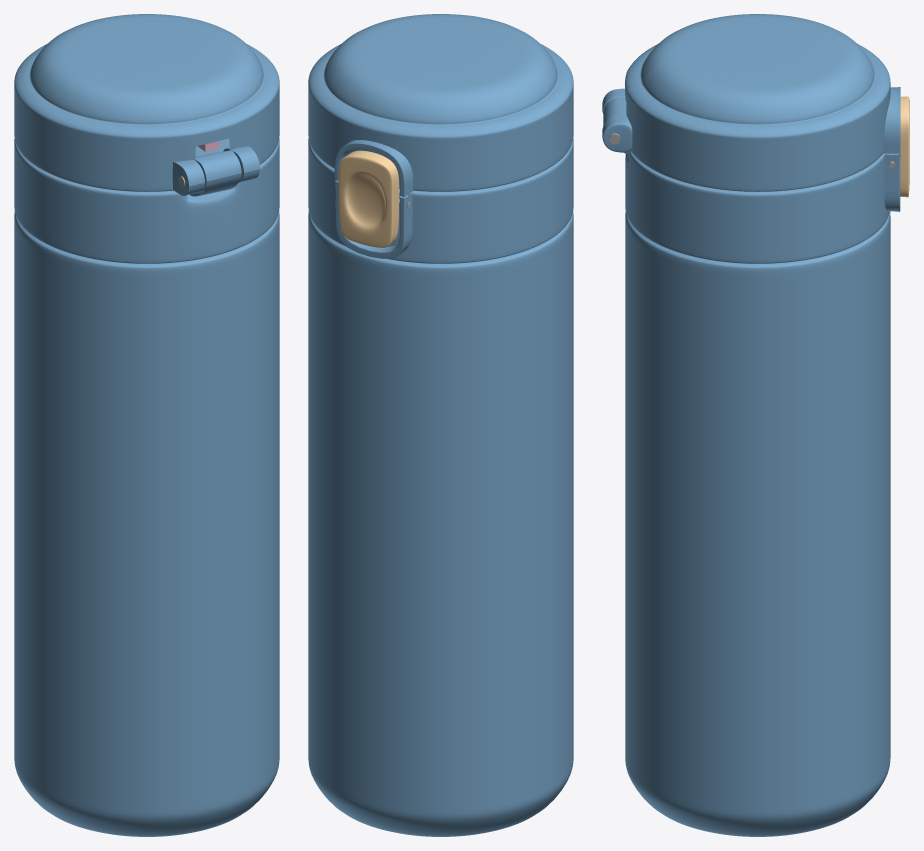
Rendered from blue_tumbler.glb.
3 renders of one model, left to right at view 1: azimuth 30°, elevation 25°; view 2: azimuth 150°, elevation 25°; view 3: azimuth 270°, elevation 25°, orthographic.
Parts seen in each view (by area): view 1: Cylinder.016_0, Cylinder.018_2, Cylinder.017_1, Cube.022_7, Cube.020_4, Cube.021_6; view 2: Cylinder.016_0, Cylinder.018_2, Cylinder.017_1, Cube.024_9, Cube.019_3; view 3: Cylinder.016_0, Cylinder.018_2, Cylinder.017_1, Cube.024_9, Cube.019_3, Cube.021_6.
Boxes of the visible parts, x1,y1,x2,y2 form: Cylinder.016_0: (14, 211, 279, 836); Cylinder.018_2: (14, 14, 279, 191); Cylinder.017_1: (14, 138, 279, 263); Cube.022_7: (190, 150, 241, 196); Cube.020_4: (172, 159, 204, 195); Cube.021_6: (223, 146, 259, 182); Cylinder.016_0: (308, 211, 573, 836); Cylinder.018_2: (308, 14, 573, 191); Cylinder.017_1: (308, 139, 573, 263); Cube.024_9: (338, 150, 399, 247); Cube.019_3: (334, 140, 413, 197); Cylinder.016_0: (625, 211, 890, 836); Cylinder.018_2: (625, 14, 890, 191); Cylinder.017_1: (625, 152, 900, 263); Cube.024_9: (900, 96, 909, 197); Cube.019_3: (883, 87, 900, 153); Cube.021_6: (602, 115, 632, 152).
Size of the model in its own units: 0.1753 by 0.5417 by 0.203.
